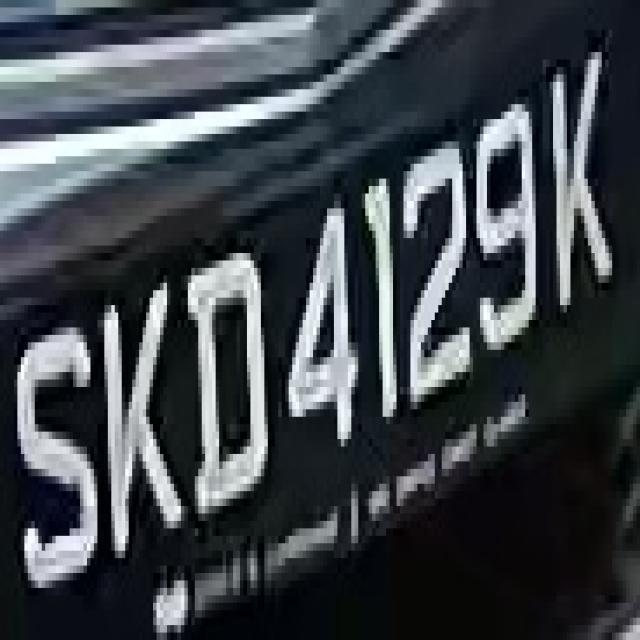1: (355, 141, 421, 454)
2: (393, 149, 480, 417)
4: (271, 194, 379, 462)
9: (459, 97, 539, 372)
D: (181, 253, 271, 536)
K: (90, 260, 184, 550), (536, 45, 619, 342)
S: (0, 4, 1, 8)
